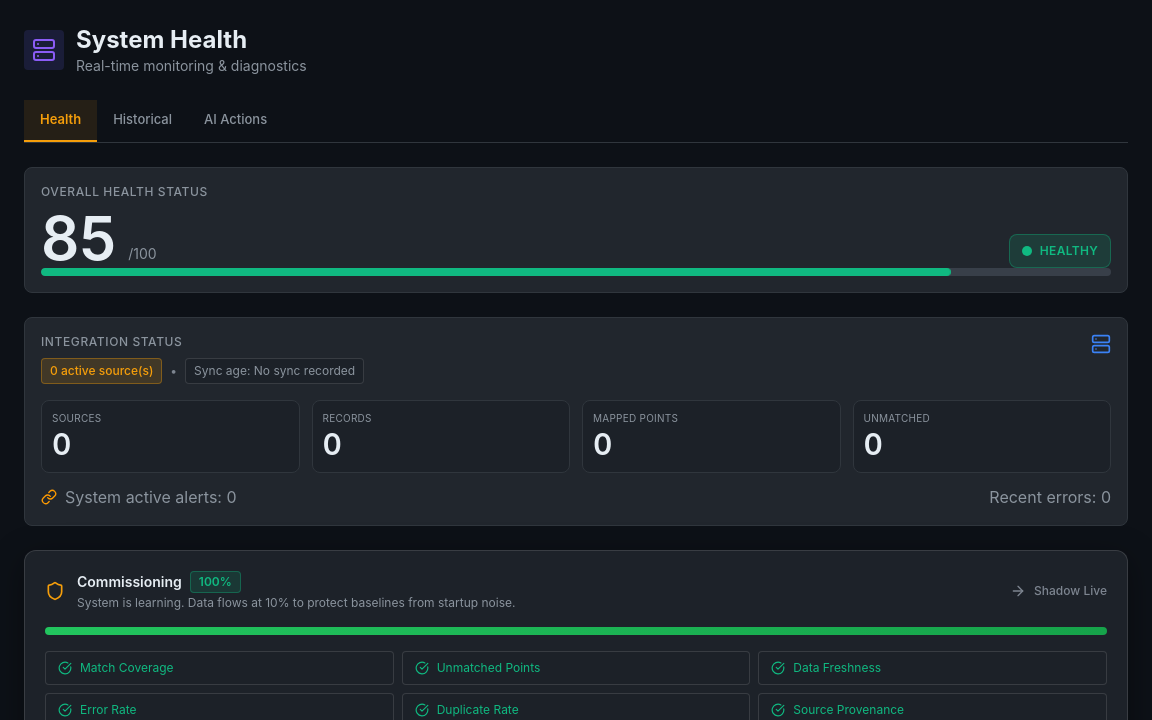
Test case: SystemHealthPage › Historical Insights Display › should display degrading trend with red badge
The image size is (1152, 720).
Expected: the heading "System Health" is shown, [76, 25, 247, 54]
Click the tab "Historical": point(142, 121) [97, 100, 188, 142]
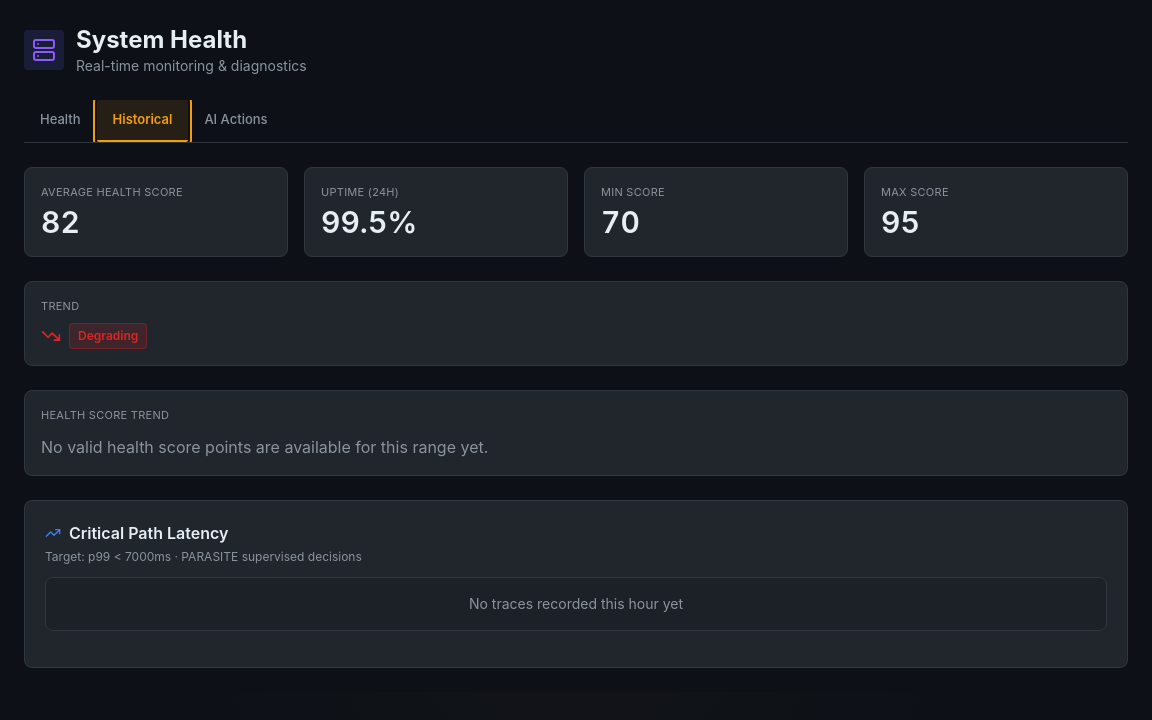
Result: the text "Degrading" is shown at [69, 322, 147, 348]
